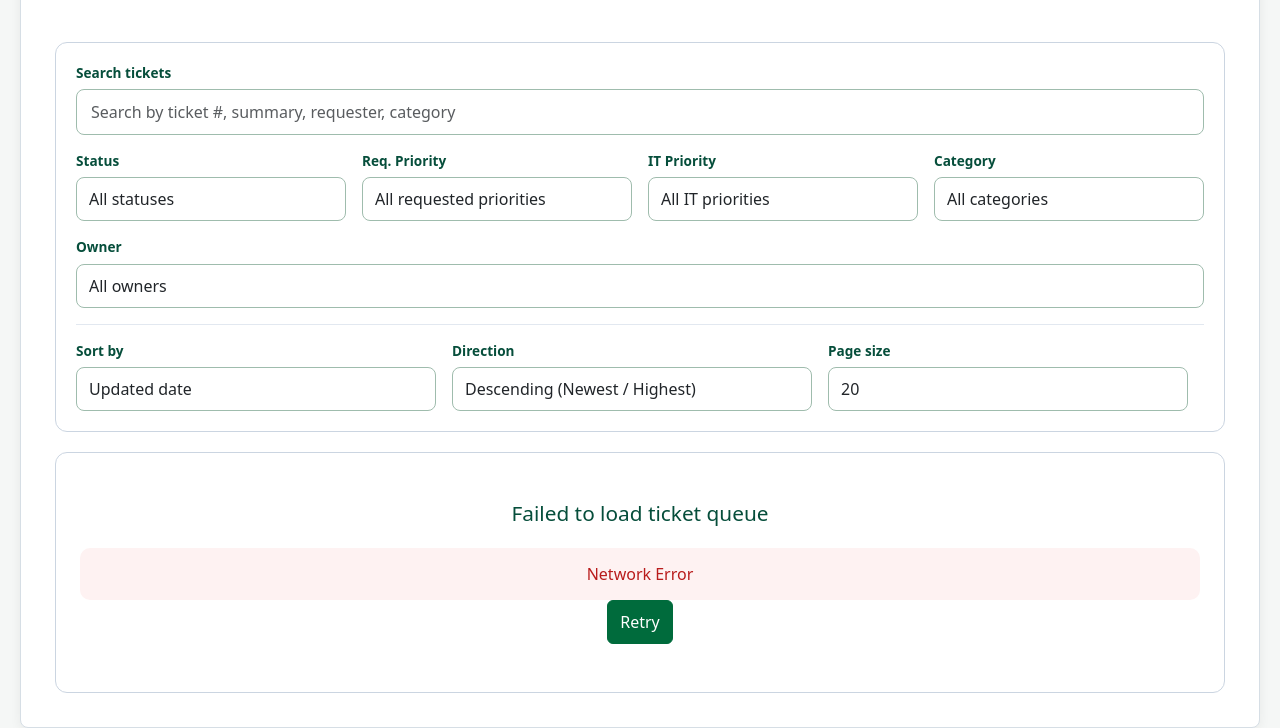
Test: UI-QUEUE-01: Staff Ticket Queue › renders error state with retry action when API fetch fails
(page scrolled)
Check: the heading "Failed to load ticket queue" is shown, box x1=512 y1=499 x2=768 y2=527
Click the button "Retry". click: (640, 622)
box: x1=607 y1=600 x2=673 y2=644
(page scrolled)
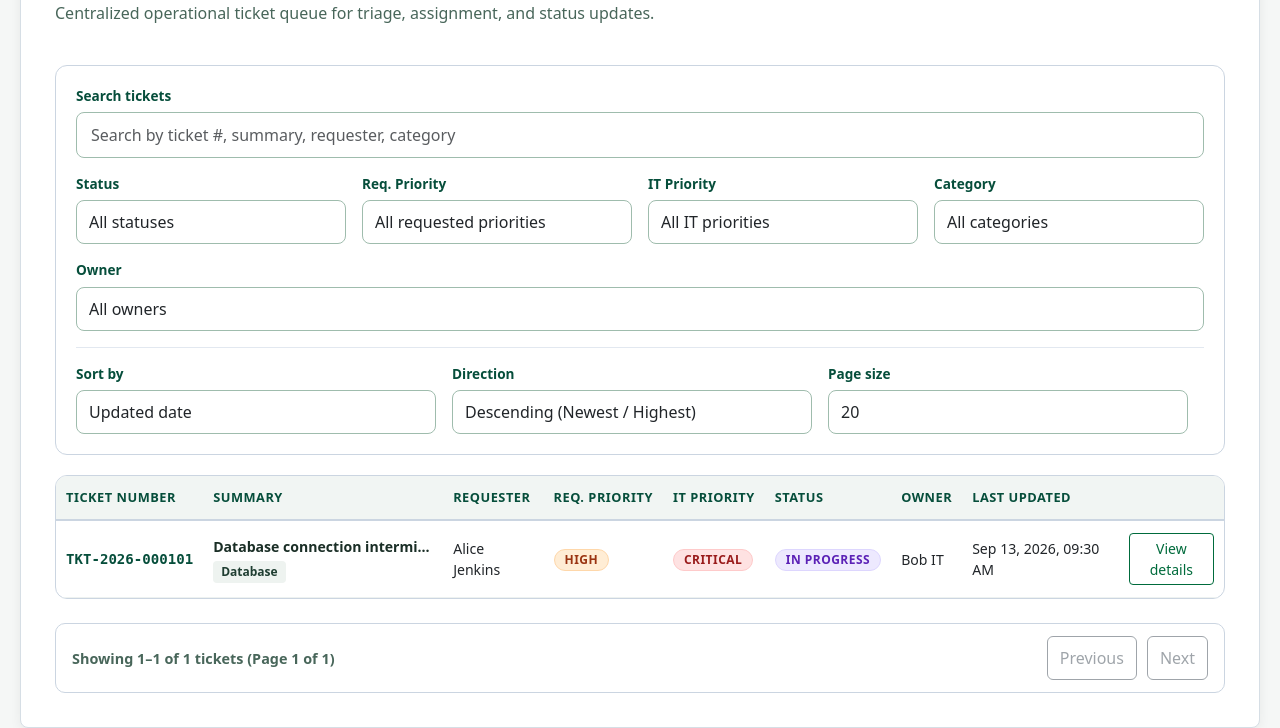
Check: the text "TKT-2026-000101" is shown, box x1=66 y1=551 x2=193 y2=567
